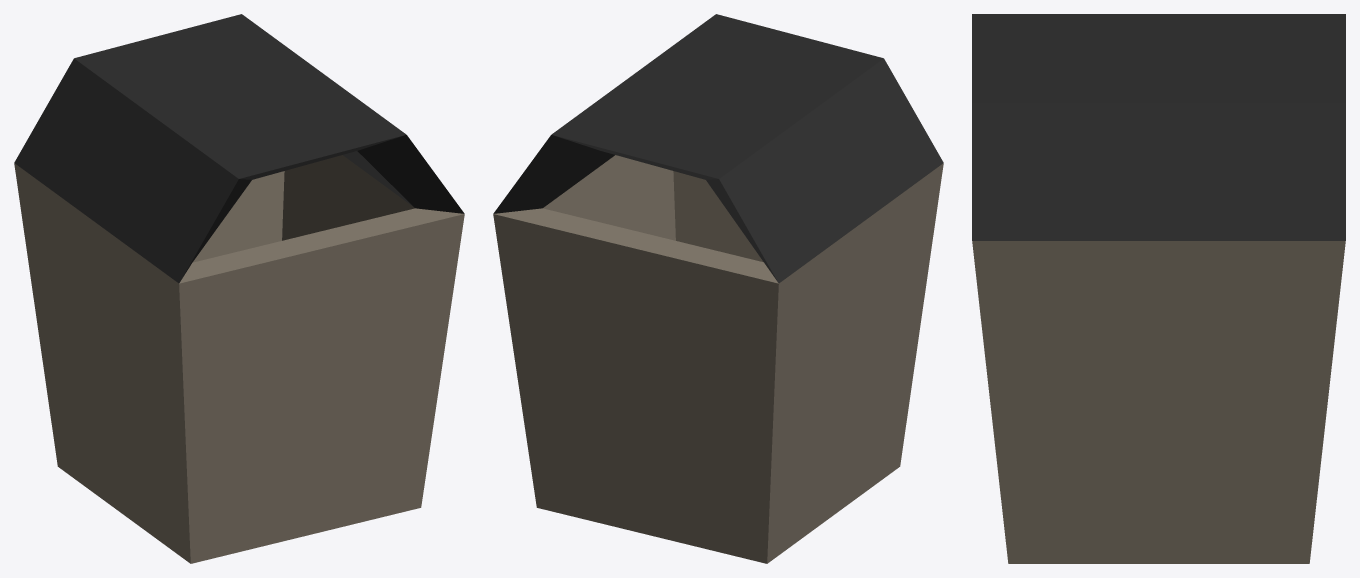
File: outtrashcan.fbx
The picture shows the model from 3 angles, left to right: view 1: azimuth 30°, elevation 25°; view 2: azimuth 150°, elevation 25°; view 3: azimuth 270°, elevation 25°; orthographic projection. The views are drawn at different scales.
Visible parts, largest first — view 1: Plane; view 2: Plane; view 3: Plane.
Boxes of the visible parts, <box> form: Plane: <box>14,14,464,563</box>; Plane: <box>493,14,943,563</box>; Plane: <box>972,14,1345,563</box>.
Bounding box in the file's own units: 178 × 233 × 178.
